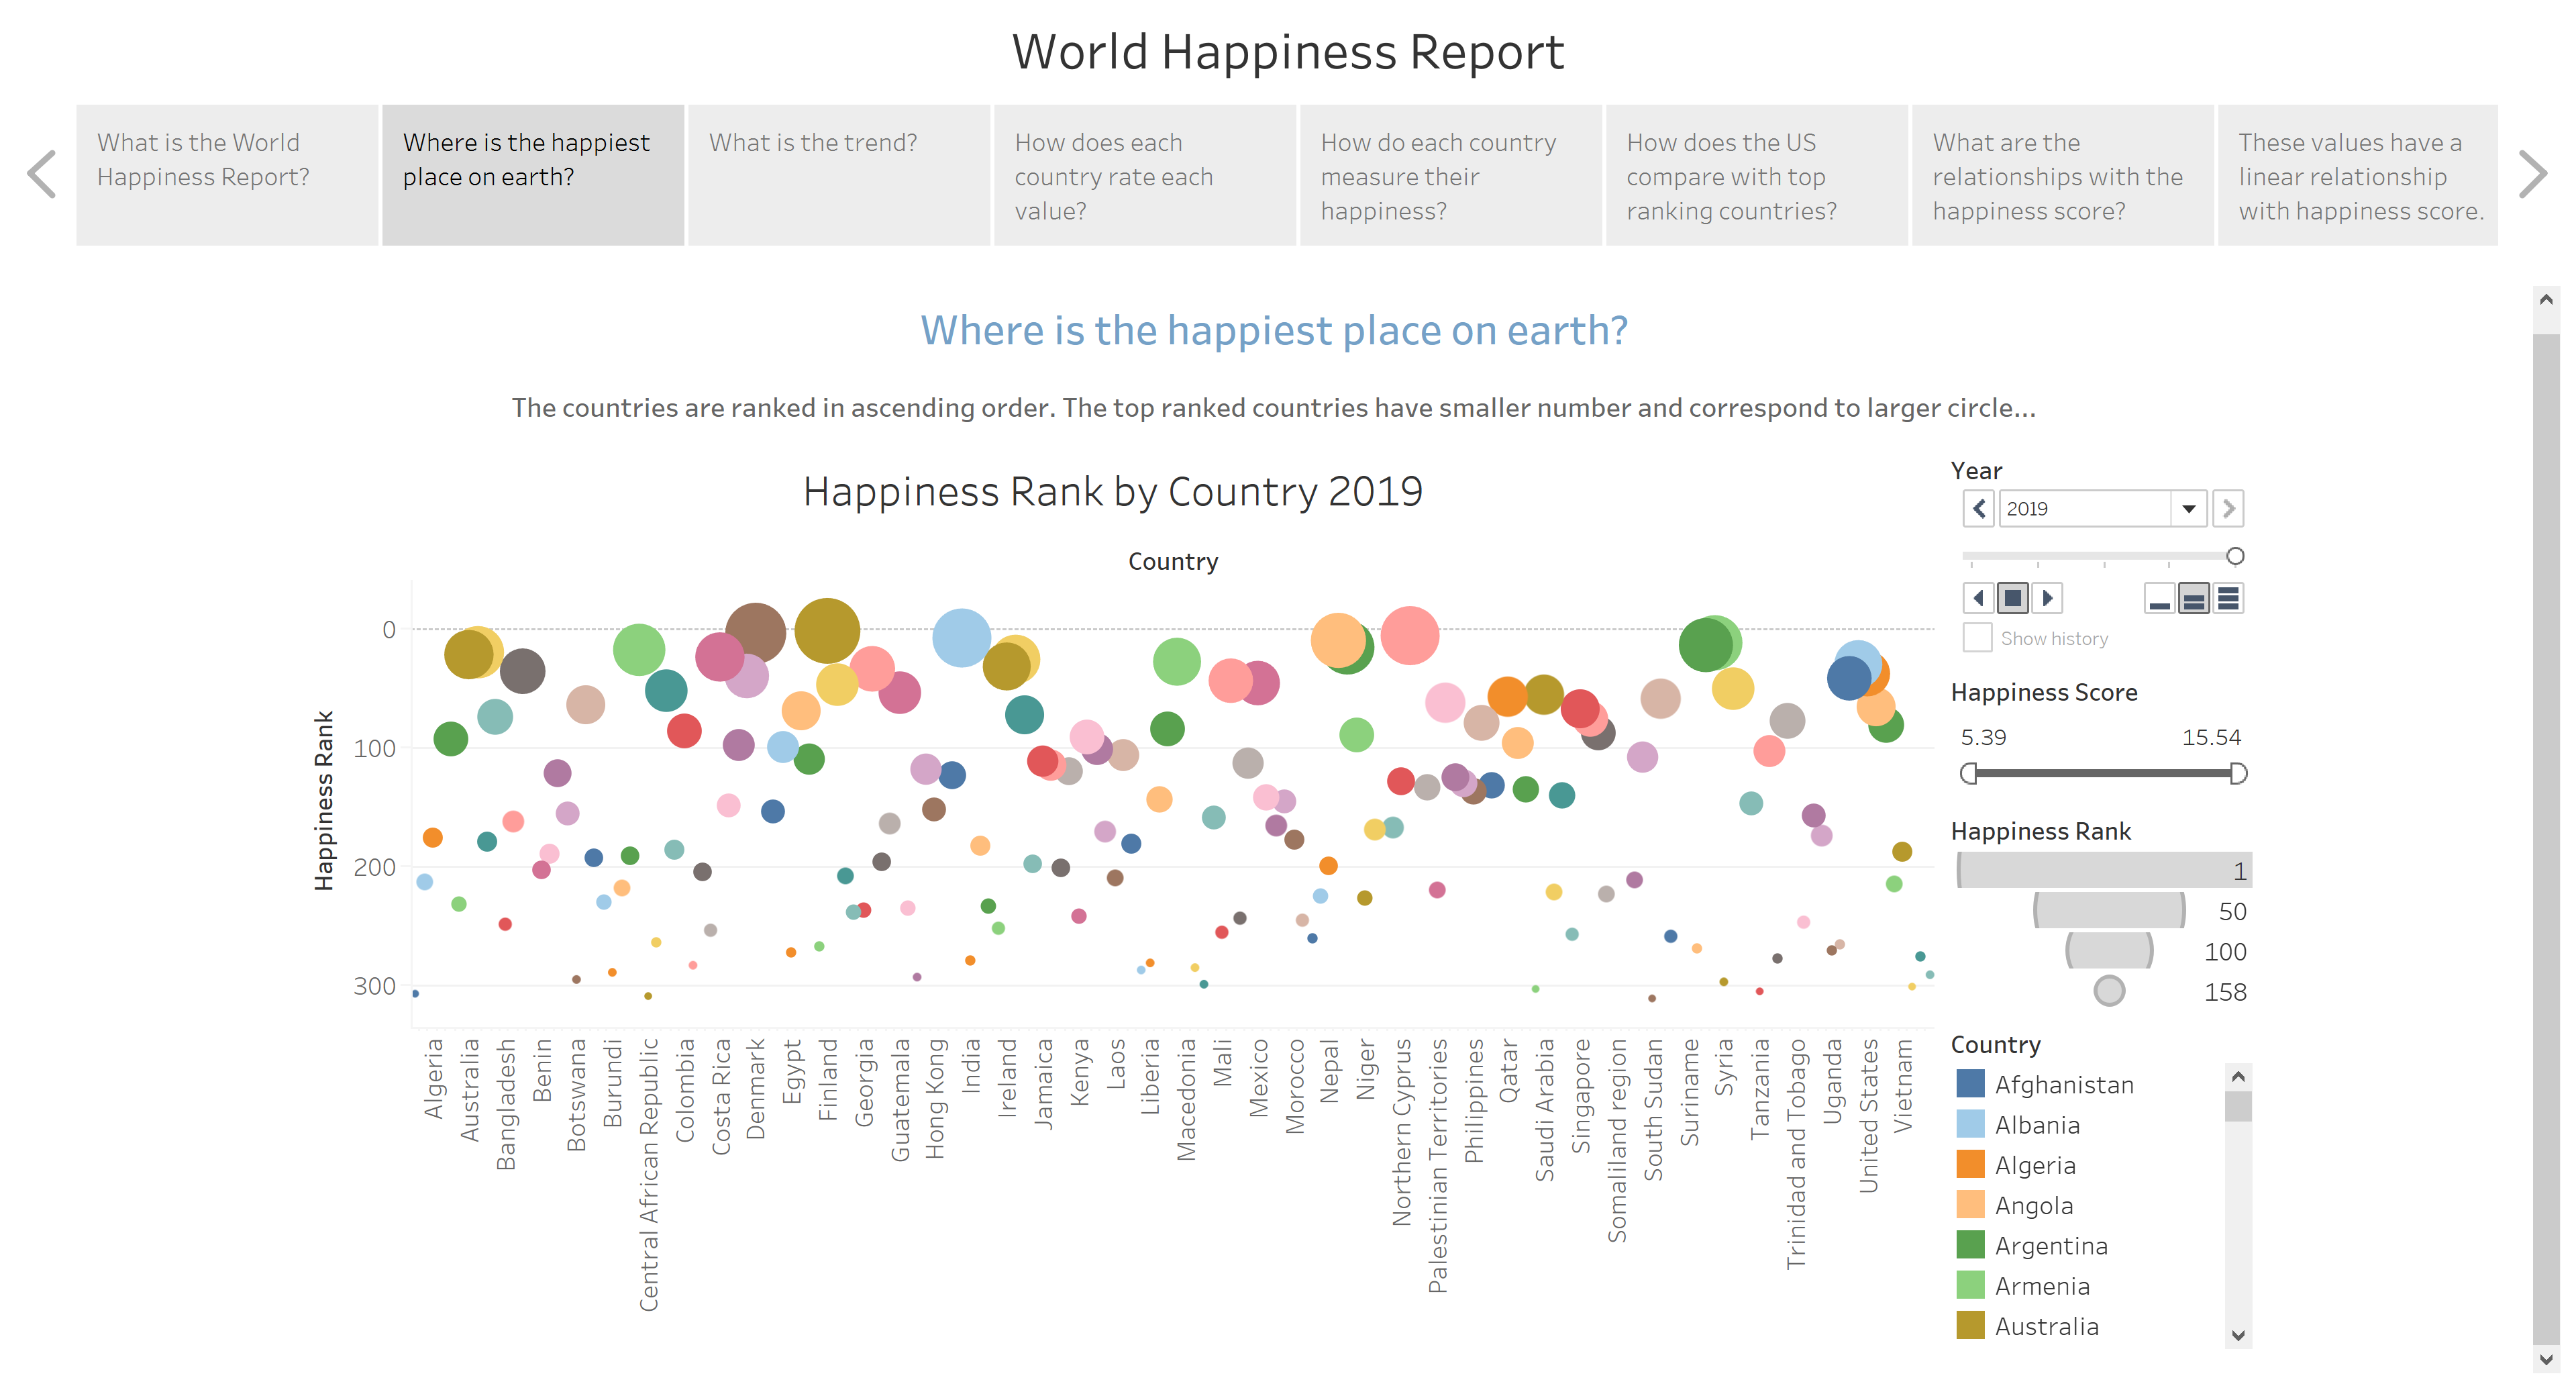

This screenshot's page, from the dashboard's own definition file:
{"tool":"tableau","page":{"name":"Countries Analysis","canvas":[1000,800],"ordinal":1},"visuals":[{"type":"worksheet","title":"Values Metrics","mark":"Automatic","rows":["Country"],"box":[8,8,824,397]},{"type":"currpage","title":"Values Metrics","box":[832,8,160,114]},{"type":"filter","title":"Values Metrics","param":"[federated.0288aqt07rcfdi14a66nn16ywf3s].[none:Country:nk]","box":[832,122,160,171]},{"type":"legend","title":"Happiness Rank by Country","param":"[federated.0288aqt07rcfdi14a66nn16ywf3s].[attr:Happiness Rank:qk]","box":[832,293,160,106]},{"type":"worksheet","title":"Happiness Rank by Country","mark":"Shape","rows":["Happiness Rank"],"cols":["Country"],"box":[8,405,984,387]}]}

Visuals, with their boxes on the page's 1000x800 design canvas (x1, y1, x2, y2). These are canvas units, not pixel positions in the 2576x1388 screenshot, which may show the page scaled, cropped or inside an application window:
"Values Metrics" worksheet: bbox(8, 8, 832, 405)
"Values Metrics" currpage: bbox(832, 8, 992, 122)
"Values Metrics" filter: bbox(832, 122, 992, 293)
"Happiness Rank by Country" legend: bbox(832, 293, 992, 399)
"Happiness Rank by Country" worksheet (Shape marks): bbox(8, 405, 992, 792)
